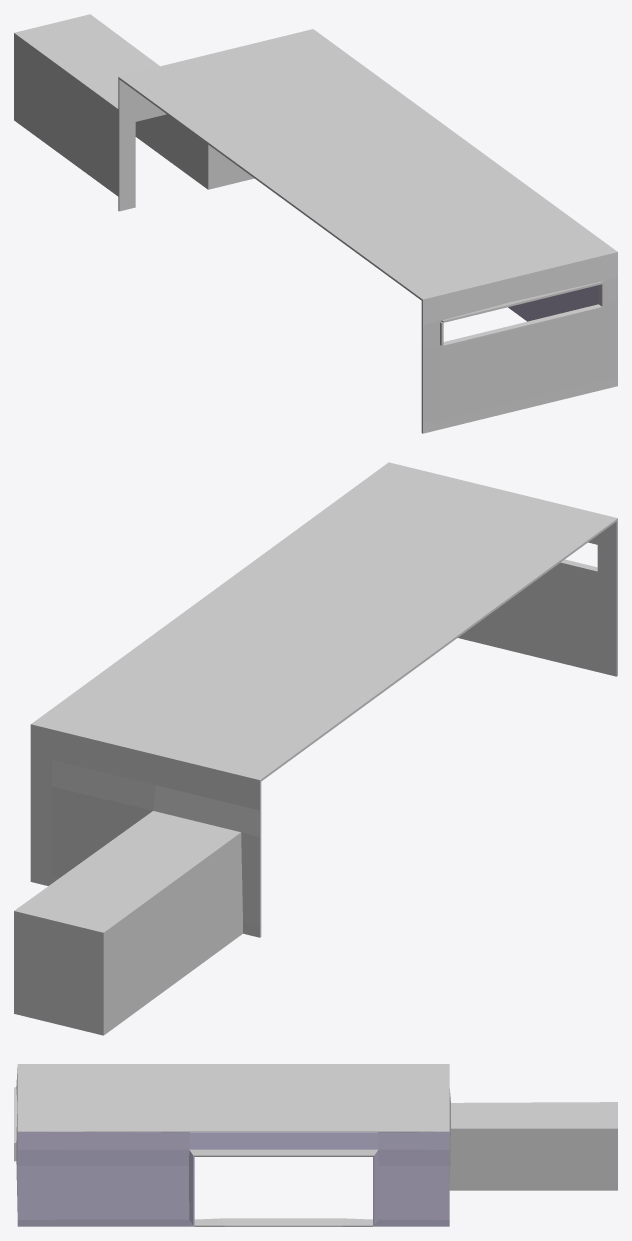
File: Environment.fbx
3 renders of one model, top to bottom at view 1: azimuth 30°, elevation 25°; view 2: azimuth 150°, elevation 25°; view 3: azimuth 270°, elevation 25°, orthographic. The views are drawn at different scales.
Visible parts, largest first — view 1: RoomBottom..001; view 2: RoomBottom..001; view 3: RoomBottom..001.
Part boxes in pixels (x1=…): RoomBottom..001: x1=14, y1=14, x2=617, y2=433; RoomBottom..001: x1=14, y1=462, x2=617, y2=1035; RoomBottom..001: x1=14, y1=1064, x2=617, y2=1226.
Bounding box in the file's own units: 342 × 203 × 1168.
